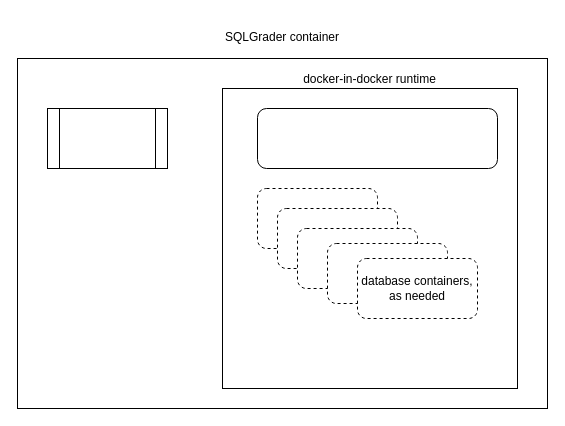
This 565x426 diagram has some shape labels left out. Here are the shapes that lost their labels. From the top down, the centre of each, then its label:
the point at 107,138: Flask-based API
the point at 377,138: Django-based web UI
